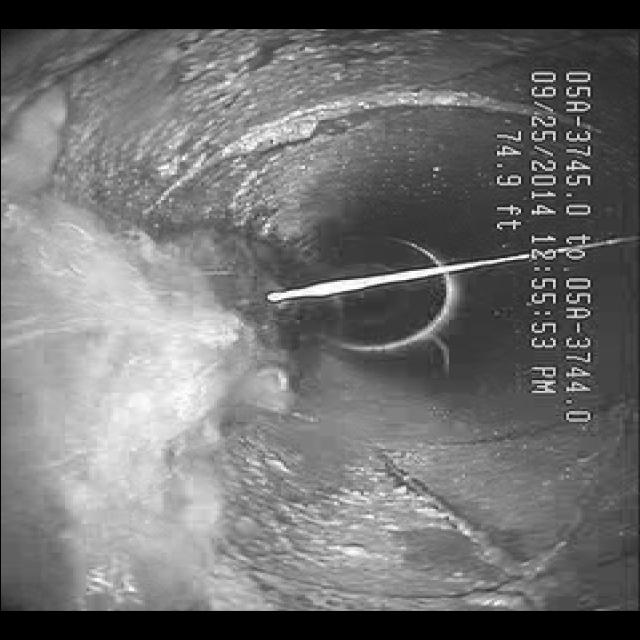Fracture: (346, 452, 554, 580)
